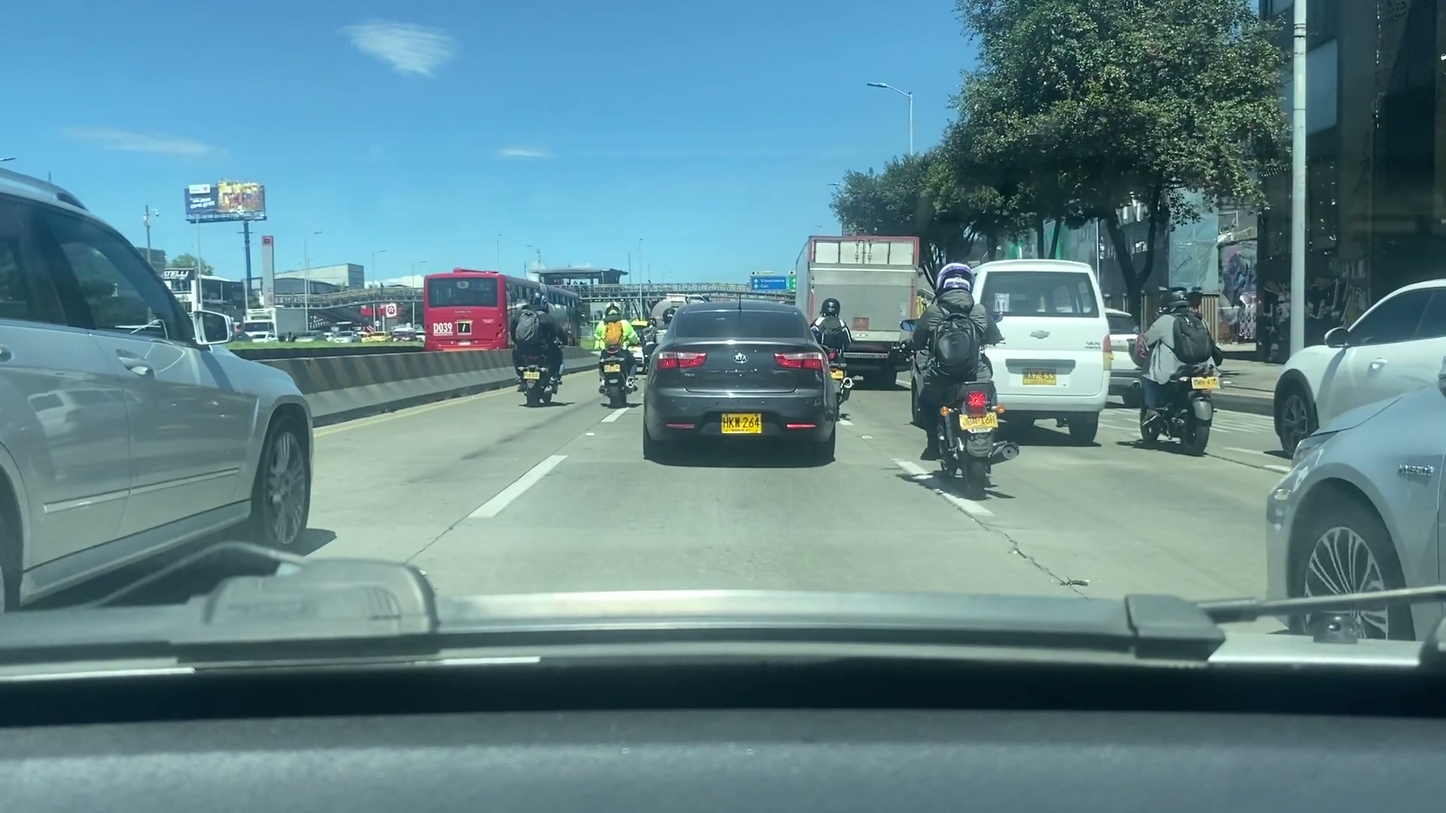bus: (959, 260, 1115, 453)
car: (0, 173, 323, 616), (1231, 355, 1446, 645), (1267, 277, 1446, 457), (642, 305, 844, 456)
motorcycle: (907, 363, 1015, 497), (1137, 373, 1217, 451), (512, 338, 561, 407), (591, 348, 638, 409)
person: (902, 257, 1019, 466), (1136, 279, 1219, 434), (516, 288, 563, 391), (591, 300, 640, 396), (813, 300, 847, 373)
truck: (790, 232, 922, 380)
